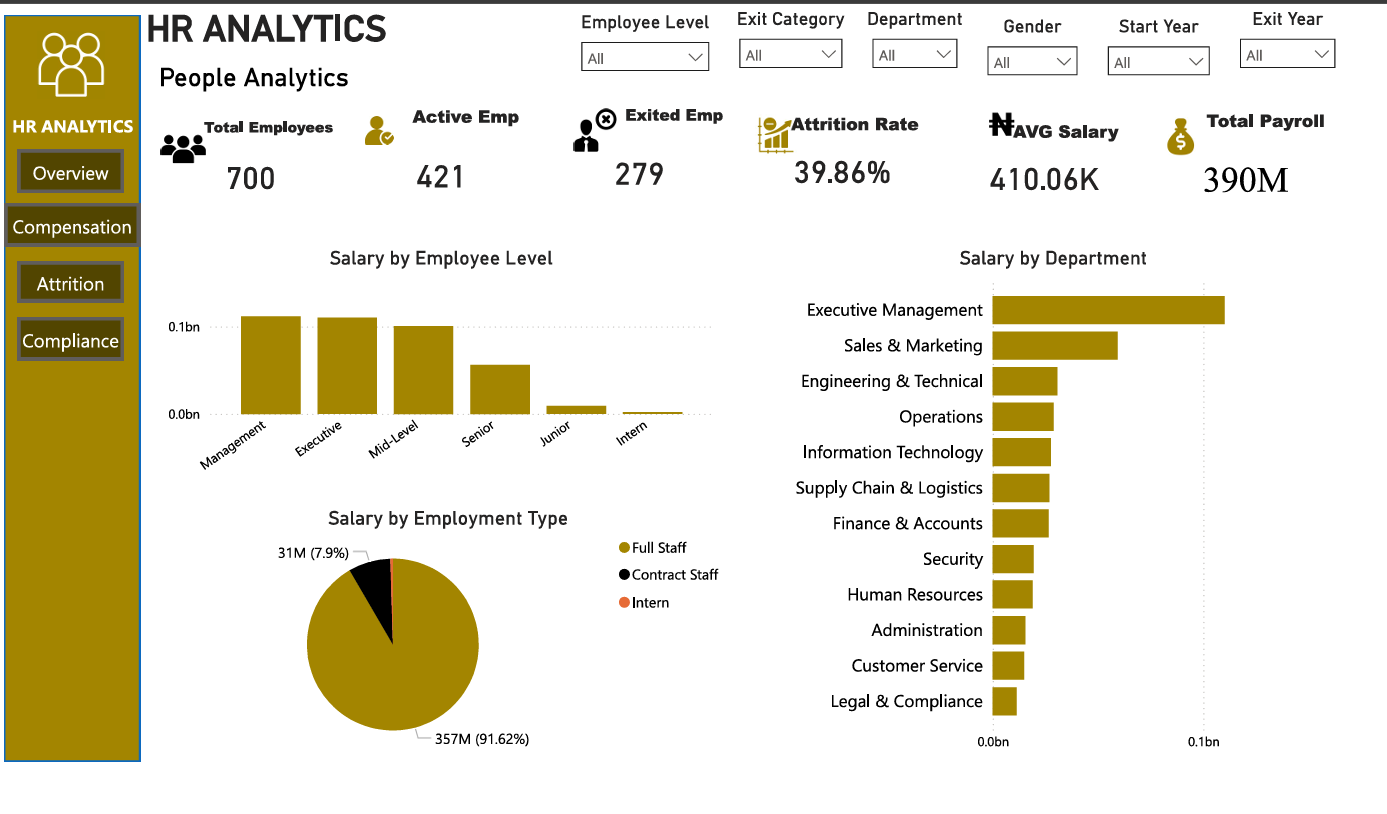

The dashboard page shown, as its layout file describes it:
{"tool":"powerbi","page":{"name":"Overview","canvas":[1280,720],"ordinal":0},"visuals":[{"type":"shape","box":[9.9,11.6,125.9,694.1],"z":0},{"type":"textbox","box":[137.5,0,246.8,51.4],"z":1000},{"type":"textbox","box":[149.1,51.4,197.1,43.1],"z":2000},{"type":"shape","box":[149.1,99.4,172.3,104.4],"z":3000},{"type":"shape","title":"Active Emp","box":[339.8,93.8,170.5,111.1],"z":4000},{"type":"shape","box":[523.5,100.2,166.3,103.9],"z":5000},{"type":"shape","box":[713.2,94.5,165,106],"z":6000},{"type":"shape","box":[907.5,98.3,165,106],"z":7000},{"type":"shape","box":[1086.7,97.7,172.3,104.4],"z":8000},{"type":"shape","box":[149.1,215.3,387.6,236.9],"z":9000},{"type":"shape","box":[554.9,217,384.3,236.9],"z":10000},{"type":"shape","box":[156.4,469.2,384.8,236.2],"z":11000},{"type":"shape","box":[559.9,468.8,384.3,236.9],"z":12000},{"type":"image","box":[39.8,26.5,64.6,62.9],"z":13000},{"type":"textbox","box":[9.9,99.4,127.5,48],"z":14000},{"type":"card","title":"Total Employees","fields":{"Values":["CountNonNull(VW_HRdata_dashboard.Employee_ID)"]},"box":[156.4,93.8,165,106],"z":15000},{"type":"card","title":"Exited Emp","fields":{"Values":["CountNonNull(VW_HRdata_dashboard.Employee_status)"]},"box":[528.8,95.4,165.8,106.4],"z":16000},{"type":"card","title":"AVG Salary","fields":{"Values":["Avg(VW_HRdata_dashboard.Net_Monthly_Pay_NGN)"]},"box":[926,100.2,147.4,86.9],"z":17000},{"type":"card","title":"Total Payroll","fields":{"Values":["Sum(VW_HRdata_dashboard.Gross_Monthly_Salary_NGN)"]},"box":[1087.1,98.5,164.2,109.5],"z":18000},{"type":"card","title":"Attrition Rate","fields":{"Values":["VW_HRdata_dashboard.Attrition Rate"]},"box":[710.1,100.1,168.9,87.6],"z":19000},{"type":"image","box":[155,109.6,43.5,52.9],"z":20000},{"type":"image","box":[540.5,73.7,39.7,88.8],"z":21000},{"type":"image","box":[926,94.5,24.6,37.8],"z":22000},{"type":"image","box":[1086.6,94.5,35.9,60.5],"z":23000},{"type":"image","box":[710.1,98.5,37.5,56.3],"z":24000},{"type":"card","title":"Active Emp","fields":{"Values":["CountNonNull(VW_HRdata_dashboard.Employee_status)"]},"box":[345.7,98.5,165.8,104.8],"z":25000},{"type":"image","box":[345.8,119.1,39.7,37.8],"z":26000},{"type":"actionButton","box":[9.4,187.7,125.1,39.1],"z":27000},{"type":"actionButton","box":[9.4,240.9,125.1,37.5],"z":28000},{"type":"actionButton","box":[9.4,292.5,125.1,40.7],"z":29000},{"type":"actionButton","box":[9.4,137.6,125.1,39.1],"z":30000},{"type":"slicer","title":"Exit Category","fields":{"Values":["VW_HRdata_dashboard.Exit_category"]},"box":[680.4,4.7,115.7,79.8],"z":31000},{"type":"slicer","title":"Gender","fields":{"Values":["VW_HRdata_dashboard.Gender"]},"box":[922.9,4.7,103.2,79.8],"z":32000},{"type":"slicer","title":"Department","fields":{"Values":["VW_HRdata_dashboard.Department"]},"box":[800.8,4.7,117.3,79.8],"z":33000},{"type":"slicer","title":"Employee Level","fields":{"Values":["VW_HRdata_dashboard.Employee_Level"]},"box":[536.5,7.8,139.2,76.6],"z":34000},{"type":"slicer","title":"Exit Year","fields":{"Values":["VW_HRdata_dashboard.Exit_Date.Variation.Date Hierarchy.Year"]},"box":[1149.7,4.7,109.5,79.8],"z":35000},{"type":"slicer","title":"Start Year","fields":{"Values":["VW_HRdata_dashboard.Start_Date.Variation.Date Hierarchy.Year"]},"box":[1030.8,4.7,114.2,84.5],"z":36000},{"type":"pieChart","title":"Employee by Gender","fields":{"Category":["VW_HRdata_dashboard.Gender"],"Y":["CountNonNull(VW_HRdata_dashboard.Employee_ID)"]},"box":[156.4,215.9,384.8,236.2],"z":37000},{"type":"shape","box":[950.8,217,308.1,503.6],"z":38000},{"type":"donutChart","title":" Employee by Level","fields":{"Y":["CountNonNull(VW_HRdata_dashboard.Employee_ID)"],"Category":["VW_HRdata_dashboard.Employee_Level"]},"box":[568.2,216.6,371.1,235.2],"z":39000},{"type":"tableEx","title":"Employee by Department","fields":{"Values":["VW_HRdata_dashboard.Department","VW_HRdata_dashboard.Employee_ID"]},"box":[950.8,255.1,329.6,465.5],"z":40000},{"type":"donutChart","title":"Employee by Age group","fields":{"Category":["VW_HRdata_dashboard.Age_group"],"Y":["CountNonNull(VW_HRdata_dashboard.Employee_ID)"]},"box":[162.7,483.7,371.1,236.9],"z":41000},{"type":"areaChart","title":"Hiring Trend","fields":{"Category":["VW_HRdata_dashboard.Start_Date.Variation.Date Hierarchy.Year"],"Y":["CountNonNull(VW_HRdata_dashboard.Employee_ID)"]},"box":[555.3,469.2,387.9,251.8],"z":42000}]}

Visuals, with their boxes on the page's 1280x720 design canvas (x1, y1, x2, y2). These are canvas units, not pixel positions in the 1387x814 screenshot, which may show the page scaled, cropped or inside an application window:
shape: BBox(10, 12, 136, 706)
textbox: BBox(138, 0, 384, 51)
textbox: BBox(149, 51, 346, 94)
shape: BBox(149, 99, 321, 204)
"Active Emp" shape: BBox(340, 94, 510, 205)
shape: BBox(524, 100, 690, 204)
shape: BBox(713, 94, 878, 200)
shape: BBox(908, 98, 1072, 204)
shape: BBox(1087, 98, 1259, 202)
shape: BBox(149, 215, 537, 452)
shape: BBox(555, 217, 939, 454)
shape: BBox(156, 469, 541, 705)
shape: BBox(560, 469, 944, 706)
image: BBox(40, 26, 104, 89)
textbox: BBox(10, 99, 137, 147)
"Total Employees" card: BBox(156, 94, 321, 200)
"Exited Emp" card: BBox(529, 95, 695, 202)
"AVG Salary" card: BBox(926, 100, 1073, 187)
"Total Payroll" card: BBox(1087, 98, 1251, 208)
"Attrition Rate" card: BBox(710, 100, 879, 188)
image: BBox(155, 110, 198, 162)
image: BBox(540, 74, 580, 162)
image: BBox(926, 94, 951, 132)
image: BBox(1087, 94, 1122, 155)
image: BBox(710, 98, 748, 155)
"Active Emp" card: BBox(346, 98, 512, 203)
image: BBox(346, 119, 386, 157)
actionButton: BBox(9, 188, 134, 227)
actionButton: BBox(9, 241, 134, 278)
actionButton: BBox(9, 292, 134, 333)
actionButton: BBox(9, 138, 134, 177)
"Exit Category" slicer: BBox(680, 5, 796, 84)
"Gender" slicer: BBox(923, 5, 1026, 84)
"Department" slicer: BBox(801, 5, 918, 84)
"Employee Level" slicer: BBox(536, 8, 676, 84)
"Exit Year" slicer: BBox(1150, 5, 1259, 84)
"Start Year" slicer: BBox(1031, 5, 1145, 89)
"Employee by Gender" pieChart: BBox(156, 216, 541, 452)
shape: BBox(951, 217, 1259, 721)
" Employee by Level" donutChart: BBox(568, 217, 939, 452)
"Employee by Department" tableEx: BBox(951, 255, 1280, 721)
"Employee by Age group" donutChart: BBox(163, 484, 534, 721)
"Hiring Trend" areaChart: BBox(555, 469, 943, 721)
